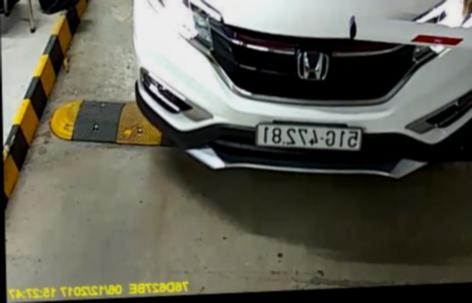License_Plate: (245, 118, 364, 154)
